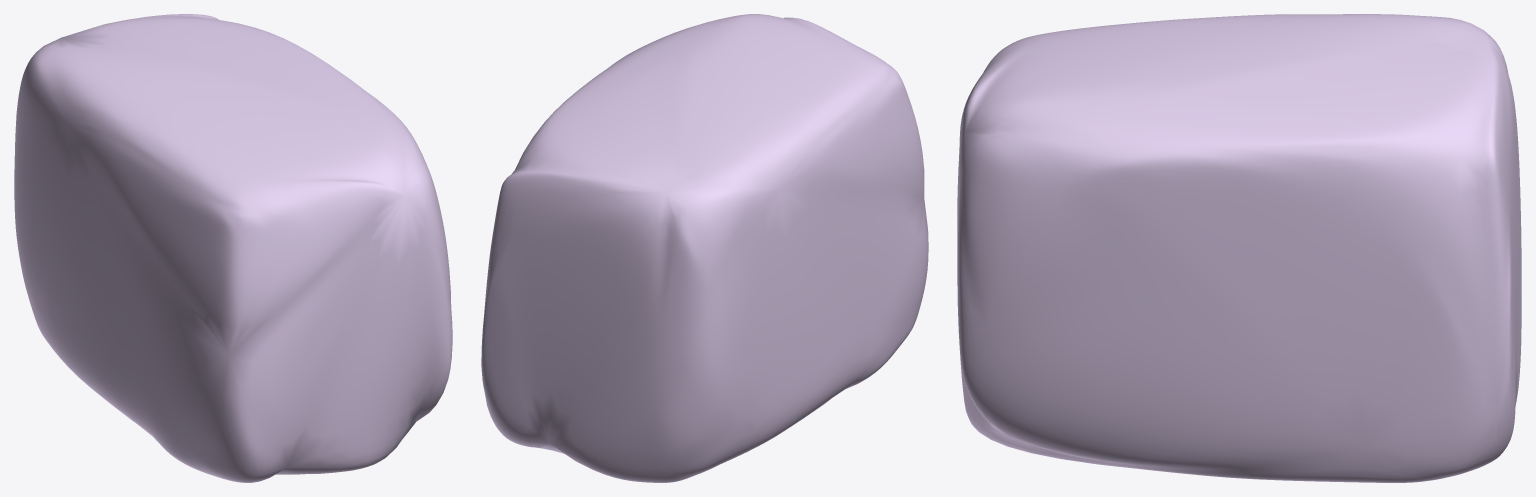
3 renders of one model, left to right at view 1: azimuth 30°, elevation 25°; view 2: azimuth 150°, elevation 25°; view 3: azimuth 270°, elevation 25°, orthographic. The views are drawn at different scales.
Parts seen in each view (by area): view 1: EC_CF; view 2: EC_CF; view 3: EC_CF.
Part boxes in pixels (<box>): EC_CF: <box>14,14,452,482</box>; EC_CF: <box>481,14,928,482</box>; EC_CF: <box>957,14,1521,482</box>.
Size of the model in its own units: 9.94 by 11.89 by 16.79.
